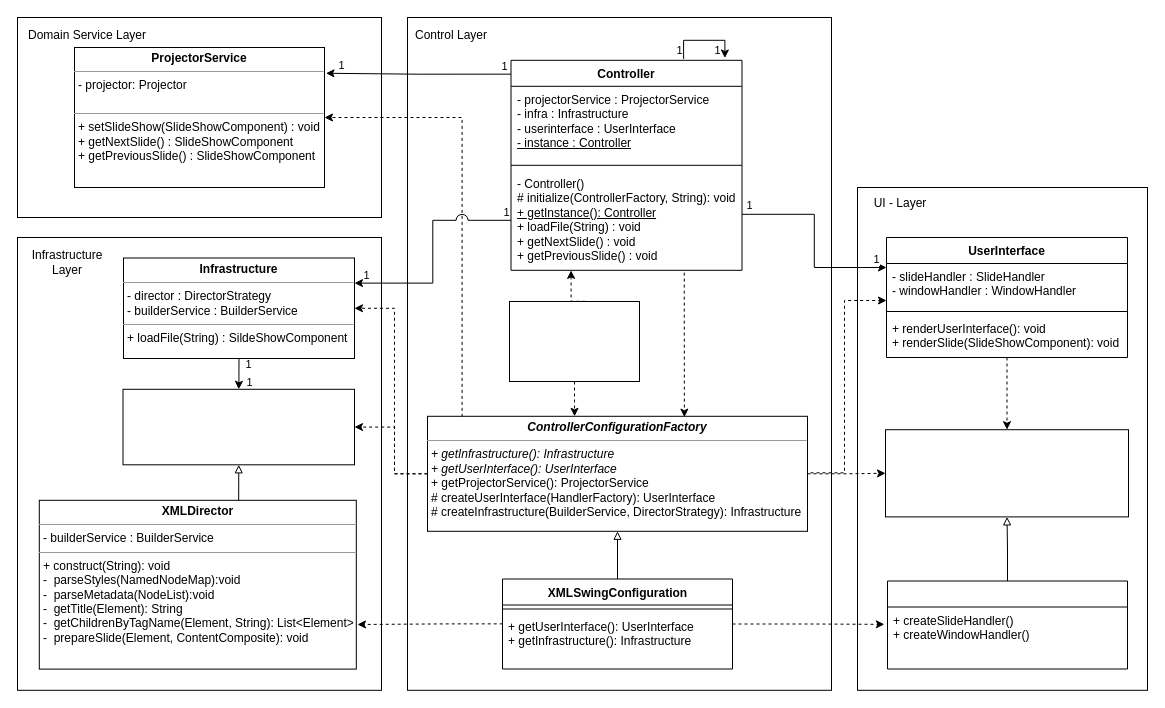
Some shapes in this 1165 by 708 pixel diagram are drawn without their labels. Each missing label, with the box of its shape:
<<Interface>> DirectorStrategy + construct(BulderService, String): void: (122, 388, 354, 465)
<<Interface>> HandlerFactory + createSlideHandler() + createWindowHandler(): (884, 429, 1128, 517)
JabberPoint - filepath : String + main():void: (508, 300, 640, 382)
SwingHandlerFactory: (886, 580, 1128, 669)
